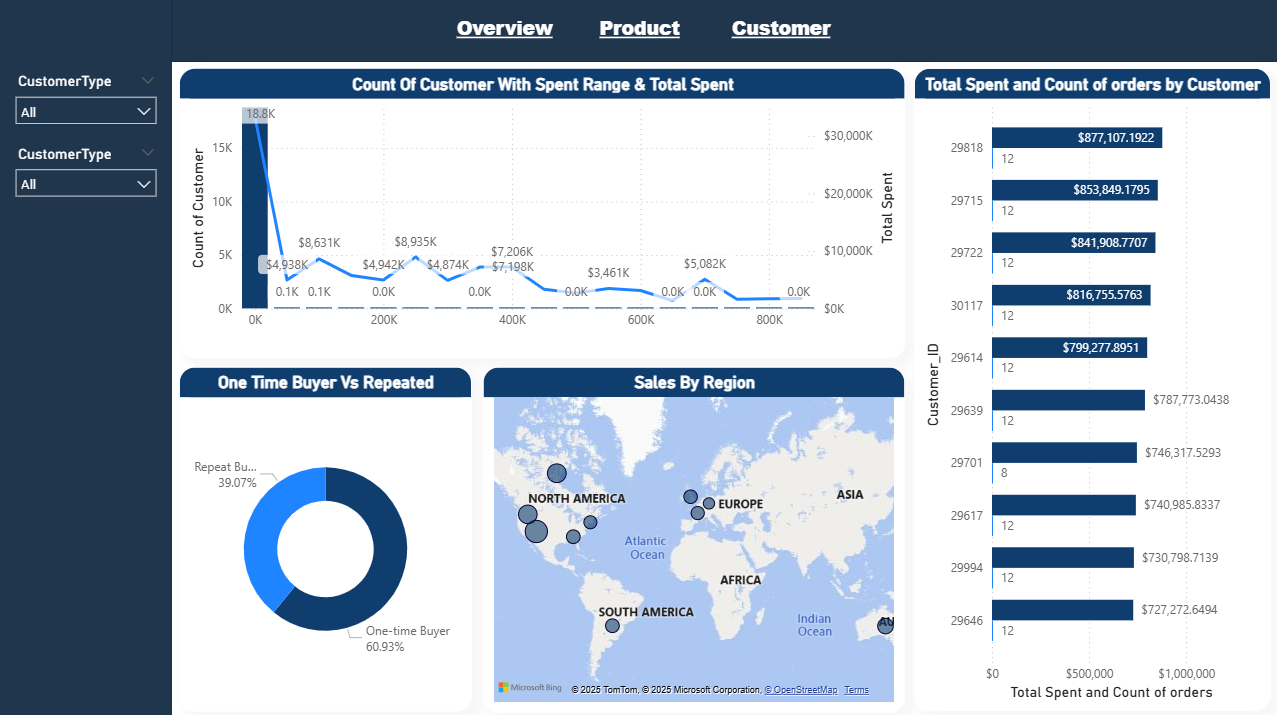

Layout of this report page (visuals, bound fields, positions):
{"tool":"powerbi","page":{"name":"Customer","canvas":[1280,720],"ordinal":2},"visuals":[{"type":"shape","box":[0,0,172.9,720.4],"z":0},{"type":"shape","box":[173,0,1107,64],"z":1000},{"type":"slicer","fields":{"Values":["vw_CustomerType.CustomerType"]},"box":[5.7,142.9,161.4,72.9],"z":4000},{"type":"actionButton","title":"Product","box":[568.8,16.2,143.8,33.8],"z":5000},{"type":"actionButton","title":"Overview","box":[433.8,16.2,143.8,33.8],"z":6000},{"type":"actionButton","title":"Customer","box":[709.4,16.5,144.1,32.9],"z":7000},{"type":"lineStackedColumnComboChart","title":"Count Of Customer With Spent Range & Total Spent","fields":{"Category":["vw_TotalCustomerSpent.TotalSpent (bins)"],"Y2":["Sum(vw_TotalCustomerSpent.TotalSpent)"],"Y":["CountNonNull(vw_TotalCustomerSpent.CustomerID)"]},"box":[180,70,726.7,290],"z":7001},{"type":"donutChart","title":"One Time Buyer Vs Repeated","fields":{"Category":["vw_CustomerOrderType.CustomerType"],"Y":["CountNonNull(vw_CustomerOrderType.CustomerID)"]},"box":[180,368.8,292.5,345],"z":7002},{"type":"map","title":"Sales By Region","fields":{"Size":["Sum(vw_SalesByRegion.TotalSales)"],"Category":["vw_SalesByRegion.SalesTerritory"]},"box":[483.8,368.8,422.5,346.2],"z":7003},{"type":"clusteredBarChart","title":"Total Spent and Count of orders by Customer","fields":{"Category":["vw_CustomerOrderType.CustomerID"],"Y":["Sum(vw_CustomerOrderType.TotalSpent)","Sum(vw_CustomerOrderType.OrderCount)"]},"box":[915.6,70,356.7,643.3],"z":7004},{"type":"slicer","fields":{"Values":["vw_CustomerOrderType.CustomerType"]},"box":[5.7,70,161.4,72.9],"z":7005}]}

Visuals, with their boxes in screenshot pixels (x1, y1, x2, y2), scaled from the page's 1280x720 canvas onto the 1277x715 screenshot:
shape: (x1=0, y1=0, x2=172, y2=714)
shape: (x1=173, y1=0, x2=1276, y2=64)
slicer - vw_CustomerType.CustomerType: (x1=6, y1=142, x2=167, y2=214)
"Product" actionButton: (x1=567, y1=16, x2=711, y2=50)
"Overview" actionButton: (x1=433, y1=16, x2=576, y2=50)
"Customer" actionButton: (x1=708, y1=16, x2=851, y2=49)
"Count Of Customer With Spent Range & Total Spent" lineStackedColumnComboChart: (x1=180, y1=70, x2=905, y2=358)
"One Time Buyer Vs Repeated" donutChart: (x1=180, y1=366, x2=471, y2=709)
"Sales By Region" map: (x1=483, y1=366, x2=904, y2=710)
"Total Spent and Count of orders by Customer" clusteredBarChart: (x1=913, y1=70, x2=1269, y2=708)
slicer - vw_CustomerOrderType.CustomerType: (x1=6, y1=70, x2=167, y2=142)
